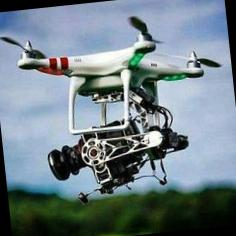drone: (0, 8, 216, 129)
